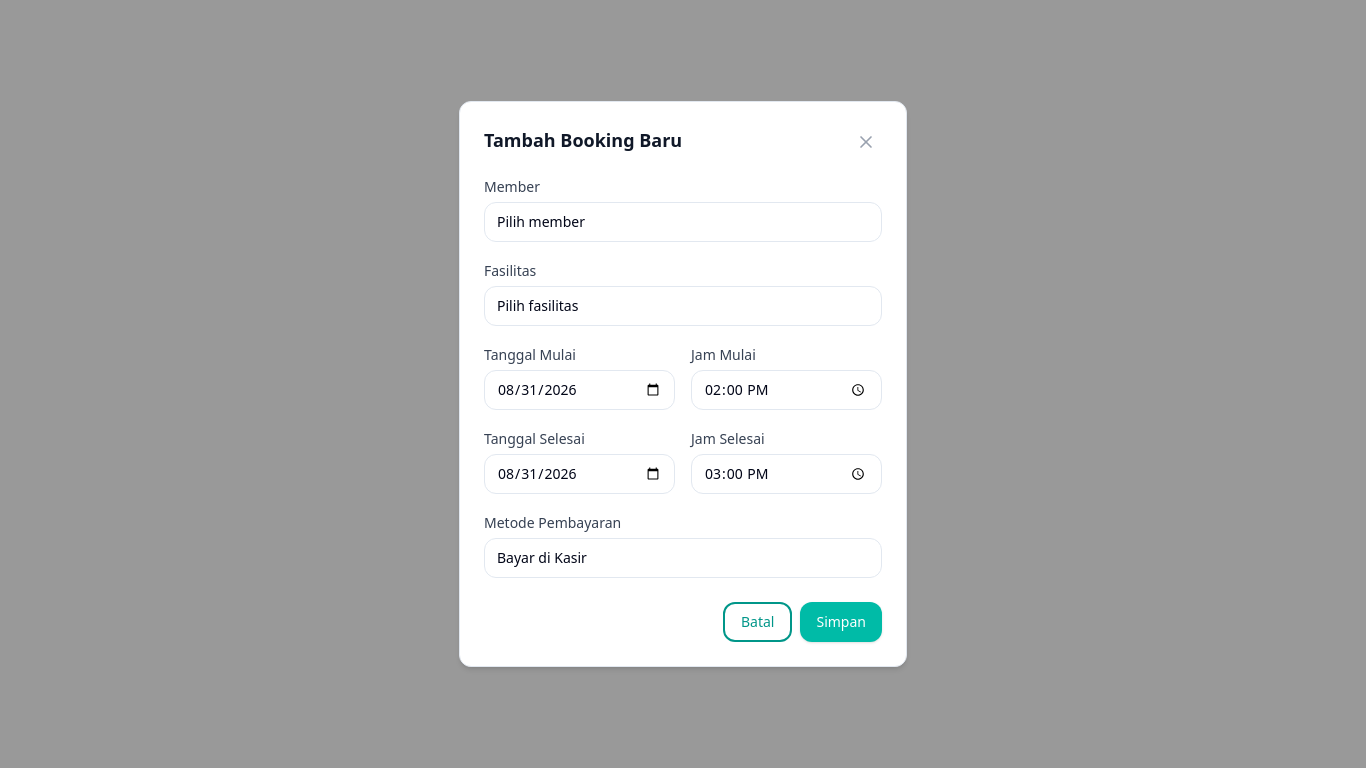
AddBookingDialog › surfaces USER_NOT_FOUND as a friendly field-level error on the member picker
Select "Budi Santoso (budi@x.test)" in the dropdown labelled "Member" at (683, 222), box [484,202,882,242]
Select "Meja A — Rp20.000/jam" in the dropdown labelled "Fasilitas" at (683, 306), box [484,286,882,326]
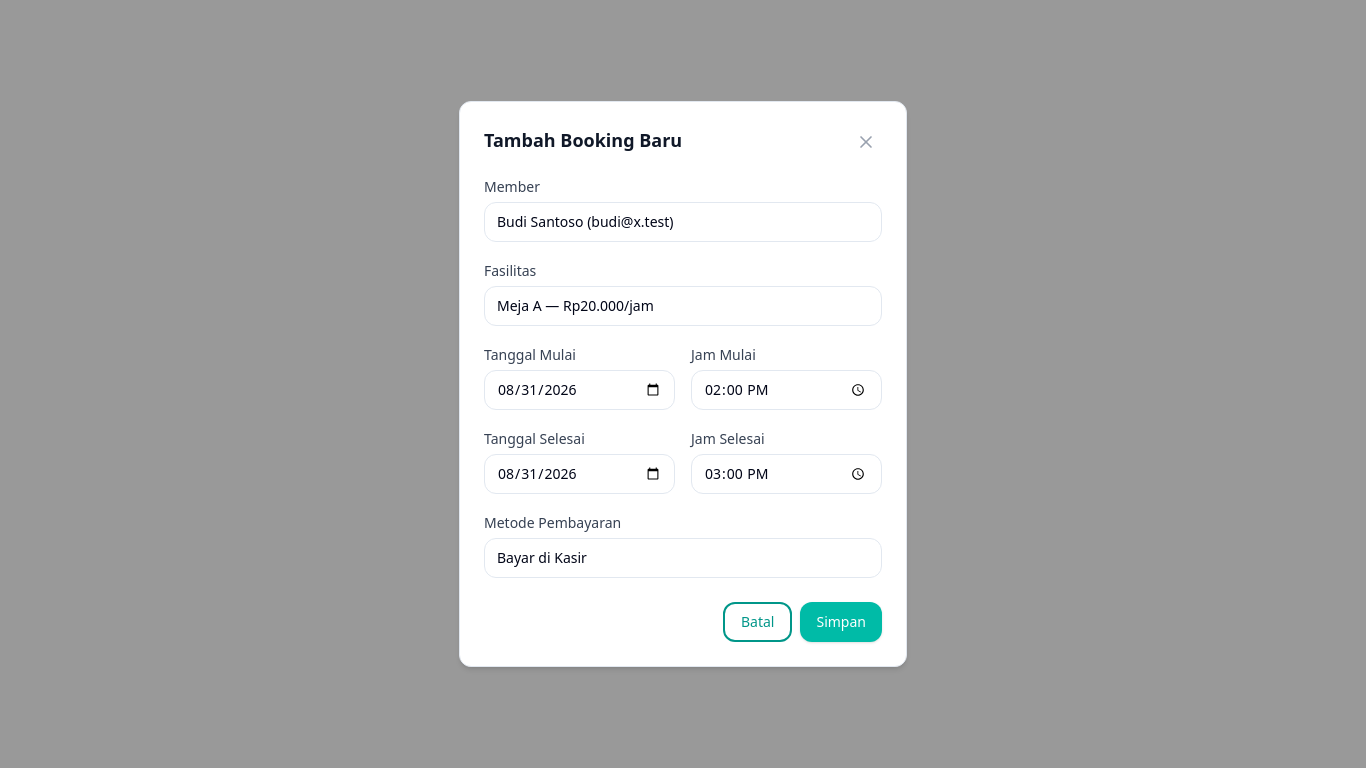
Type "2026-06-10" into the date field labelled "Tanggal Mulai".
click(580, 390); type("2026-06-10")  # box [484,370,675,410]
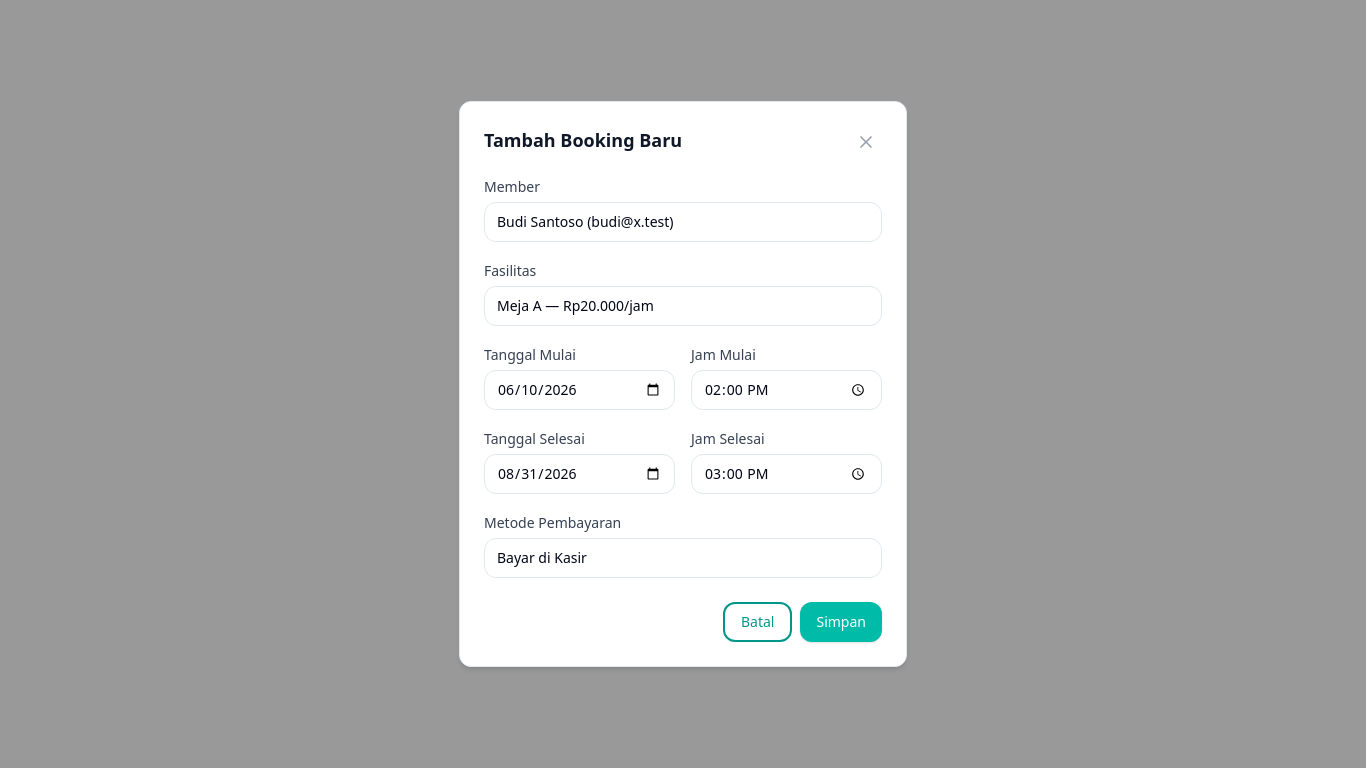
Replace the text in the time field labelled "Jam Mulai" with "09:00" at (786, 390), box [691,370,882,410]
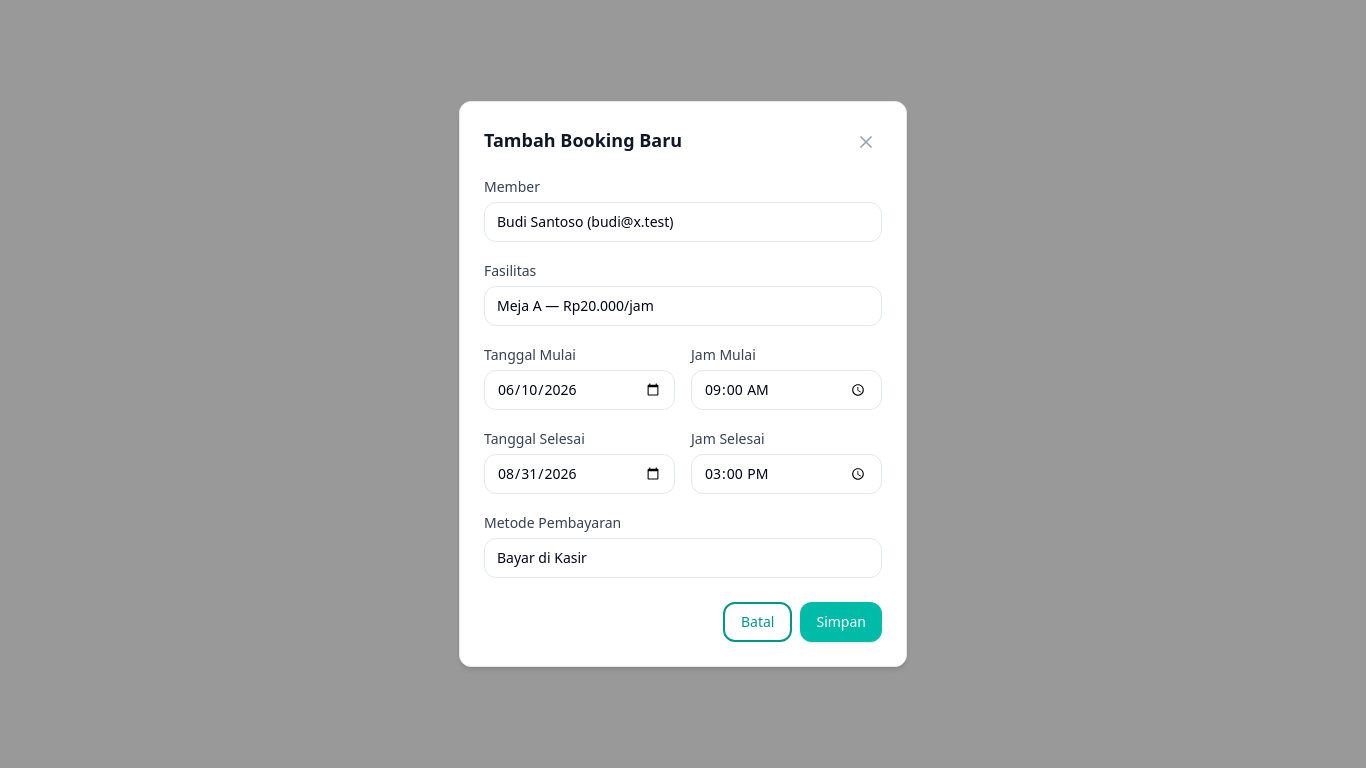
Type "2026-06-10" into the date field labelled "Tanggal Selesai".
click(580, 474); type("2026-06-10")  # box [484,454,675,494]
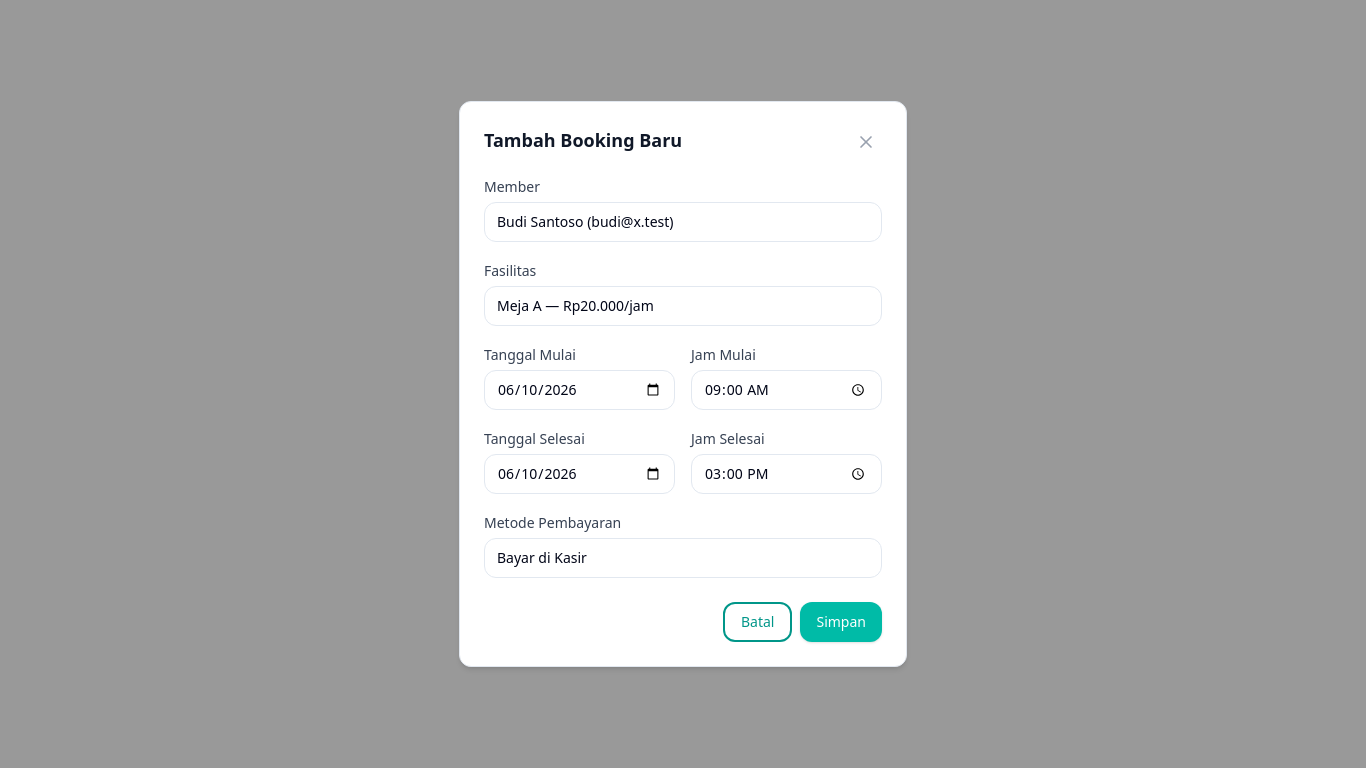
Replace the text in the time field labelled "Jam Selesai" with "11:00" at (786, 474), box [691,454,882,494]
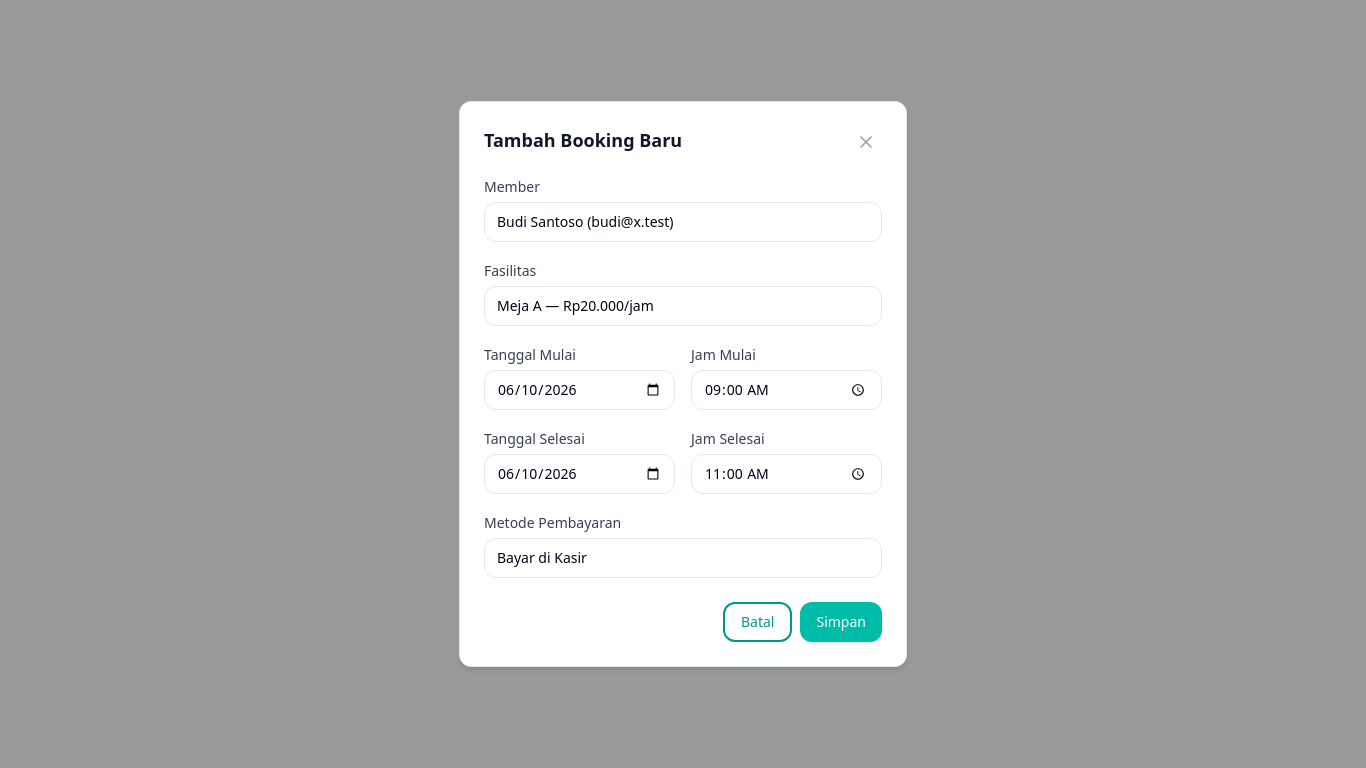
Click the button "Simpan".
click(841, 622)  # box [800,602,882,642]
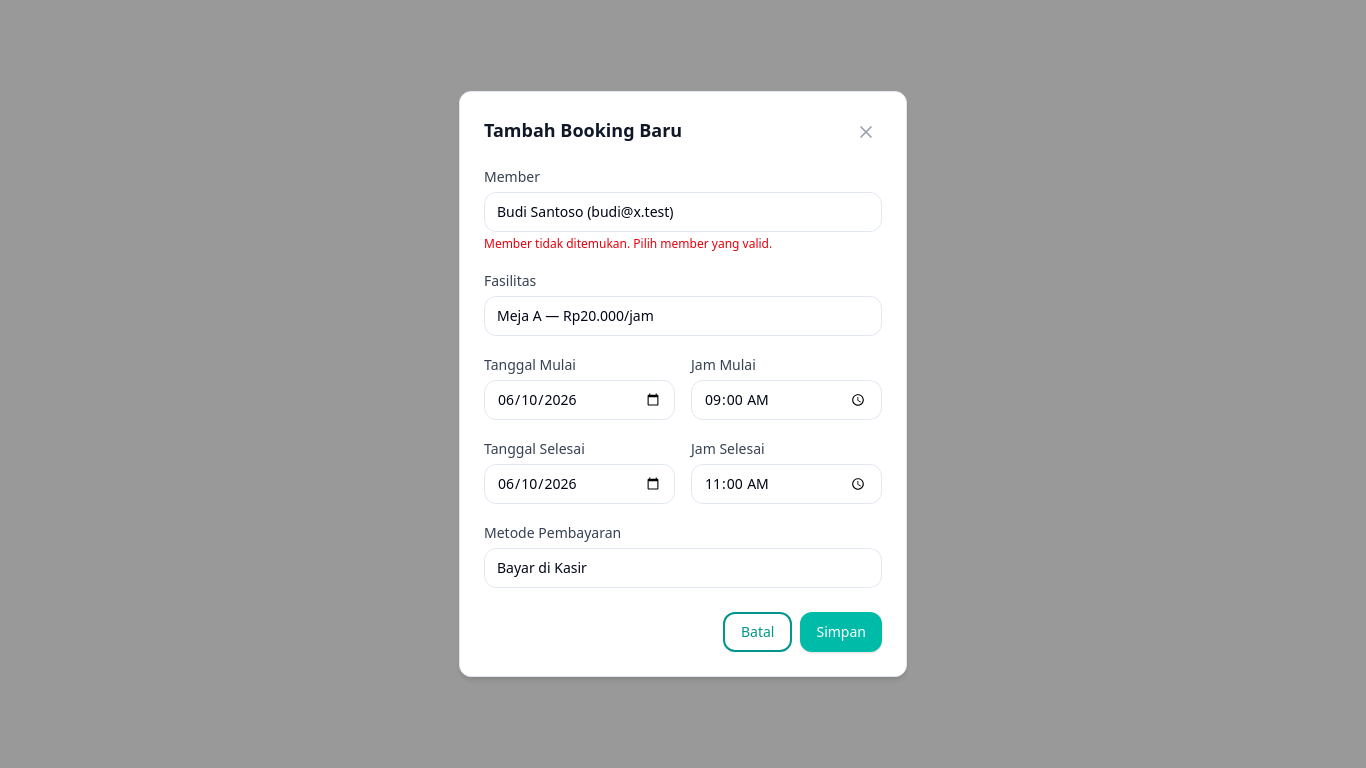
Expected: the message shows "Member tidak ditemukan", [484,235,772,252]
